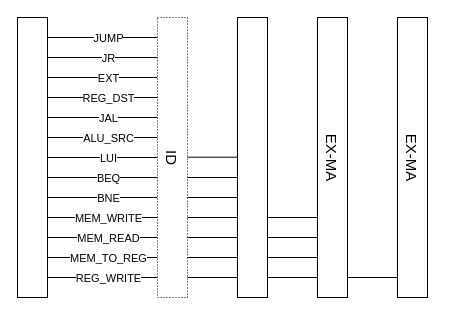
Some shapes in this 460 by 315 pixel diagram are drawn without their labels. The shapes that lost their labels are listed below. From the top down, each one's centre as x and y in pixels, then its label:
At (32,157): "Ctr".
At (252,157): "ID-EX".
